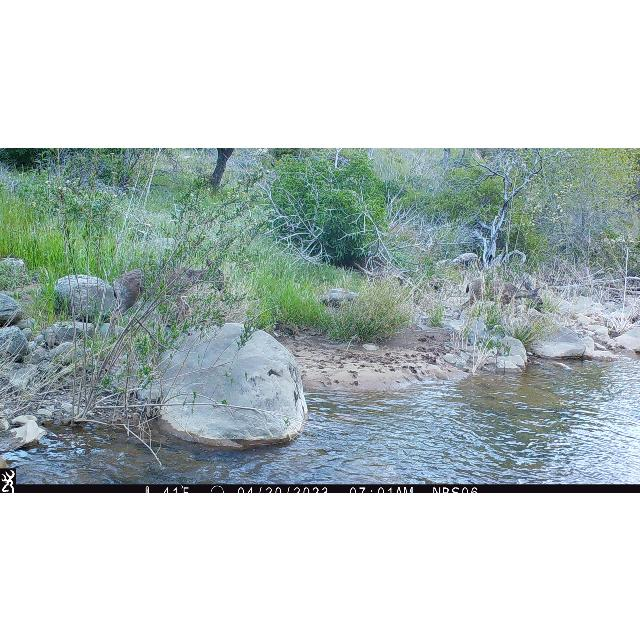animals: (110, 260, 224, 332)
